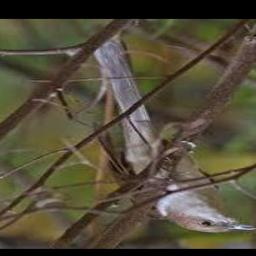Cuckoo: (90, 43, 254, 233)
